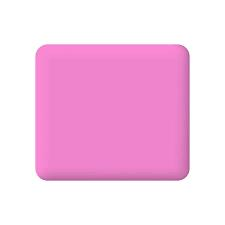pink_zone: (34, 38, 191, 185)
